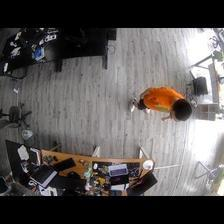normal: (129, 87, 192, 122)
